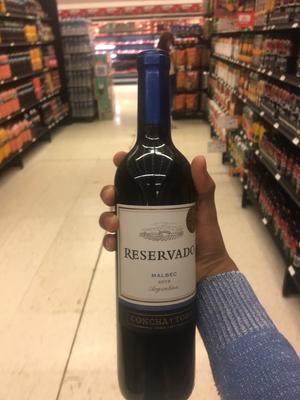reservado malbec: (112, 57, 204, 397)
